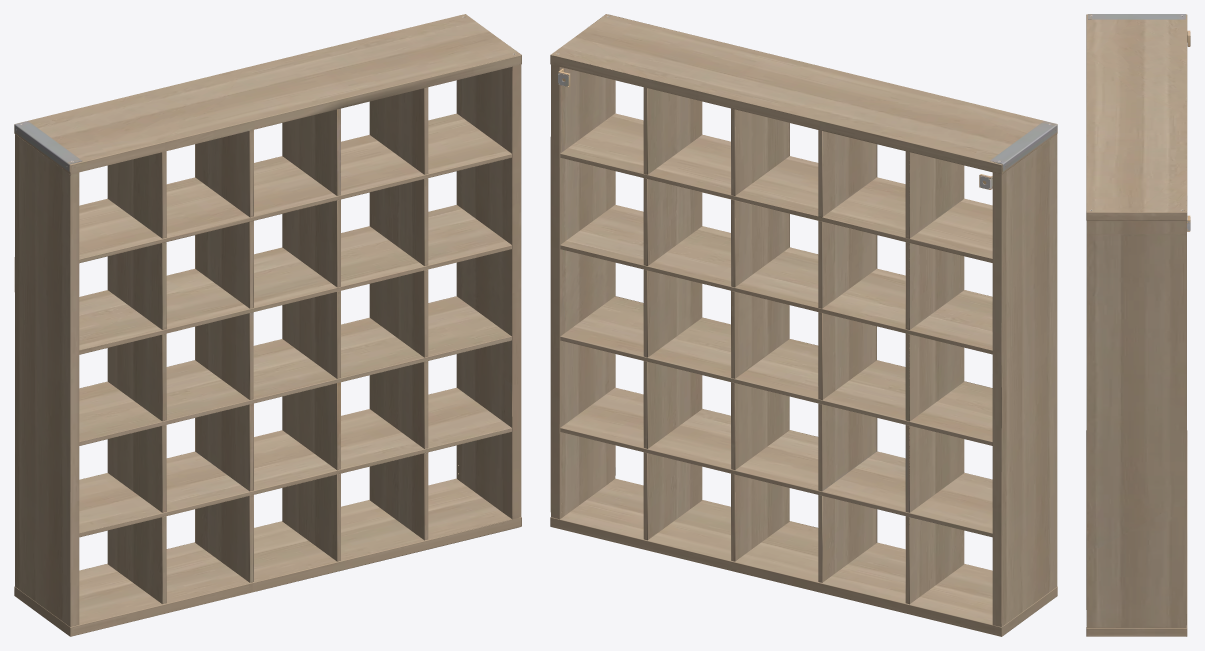
3 views of the same model, side by side, from view 1: azimuth 30°, elevation 25°; view 2: azimuth 150°, elevation 25°; view 3: azimuth 270°, elevation 25° (orthographic). The views are drawn at different scales.
Visible parts, largest first — view 1: model; view 2: model; view 3: model.
Boxes of the visible parts, box(x1,y1,x2,y2) form: model: box(14, 14, 521, 636); model: box(550, 14, 1057, 636); model: box(1086, 14, 1190, 636).
Size of the model in its own units: 1.82 by 1.82 by 0.4052.
1 material, 1 textured.
